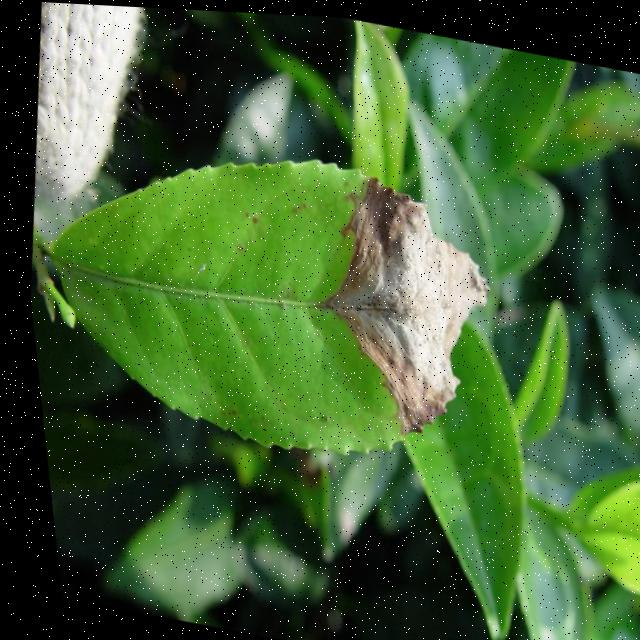Tea cloud leaf blight: (306, 164, 503, 428)
